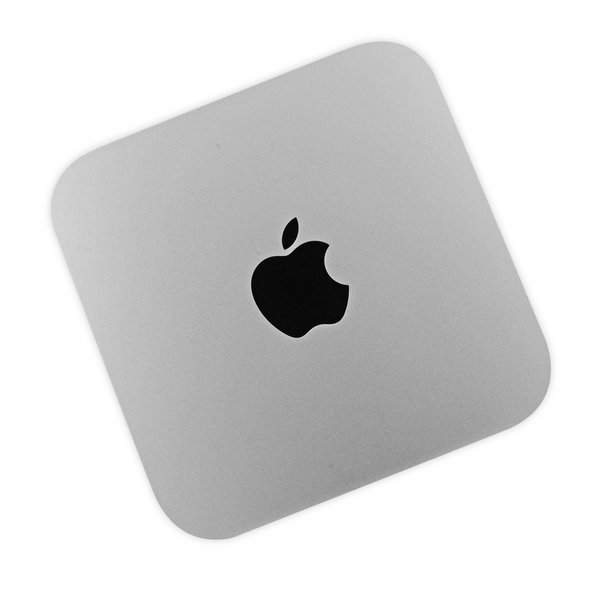apple: (242, 205, 375, 356)
